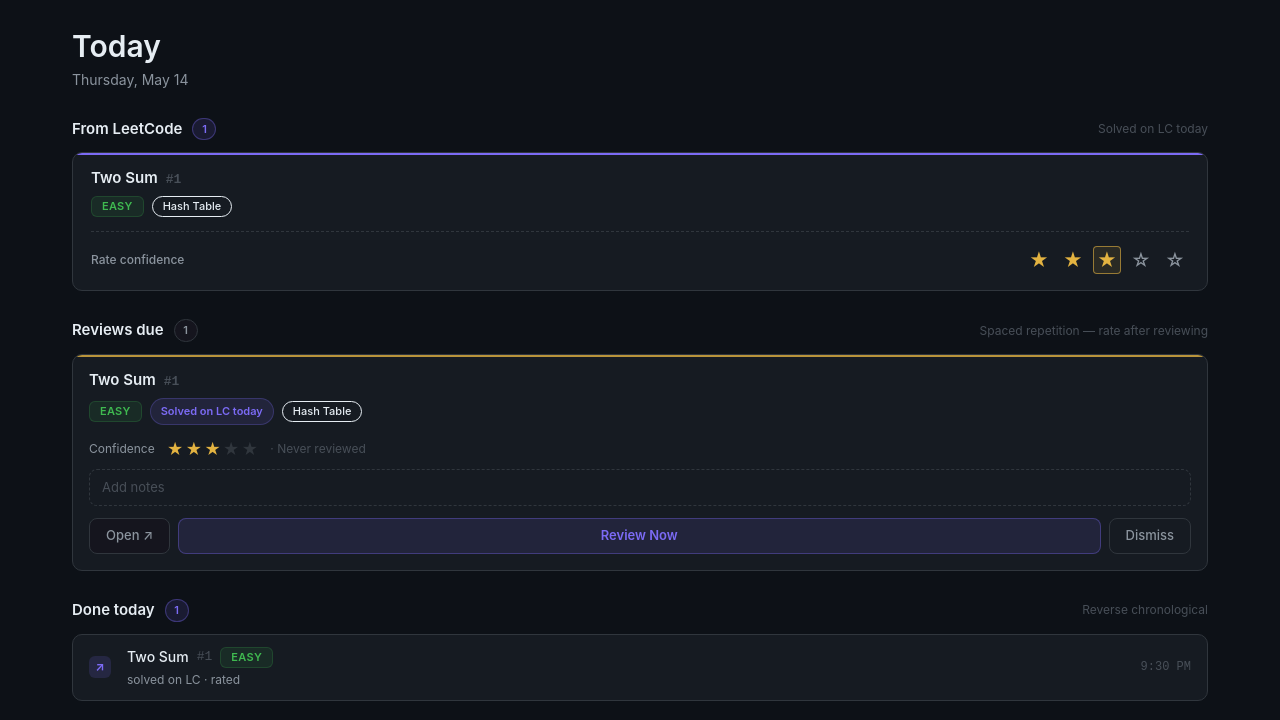
Test: TodayView › removes a known From LeetCode card after rating when parent state records the completion
Step 1. Click the radio button named "Rate Two Sum with 4-star confidence" → (1141, 260), box [1127, 246, 1155, 274]
Wait 241 ms
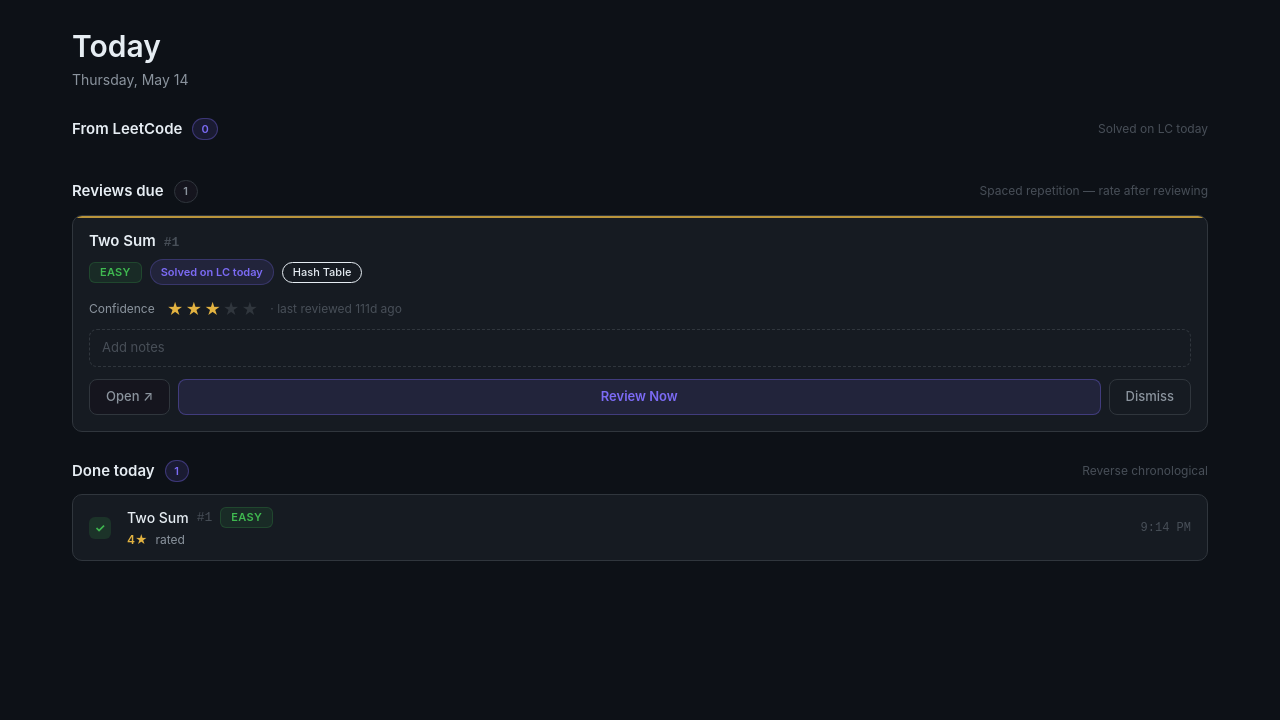
Expected: the heading "From LeetCode" is shown, [72, 118, 182, 140]
Expected: the text "4★" is shown, [127, 532, 148, 548]
